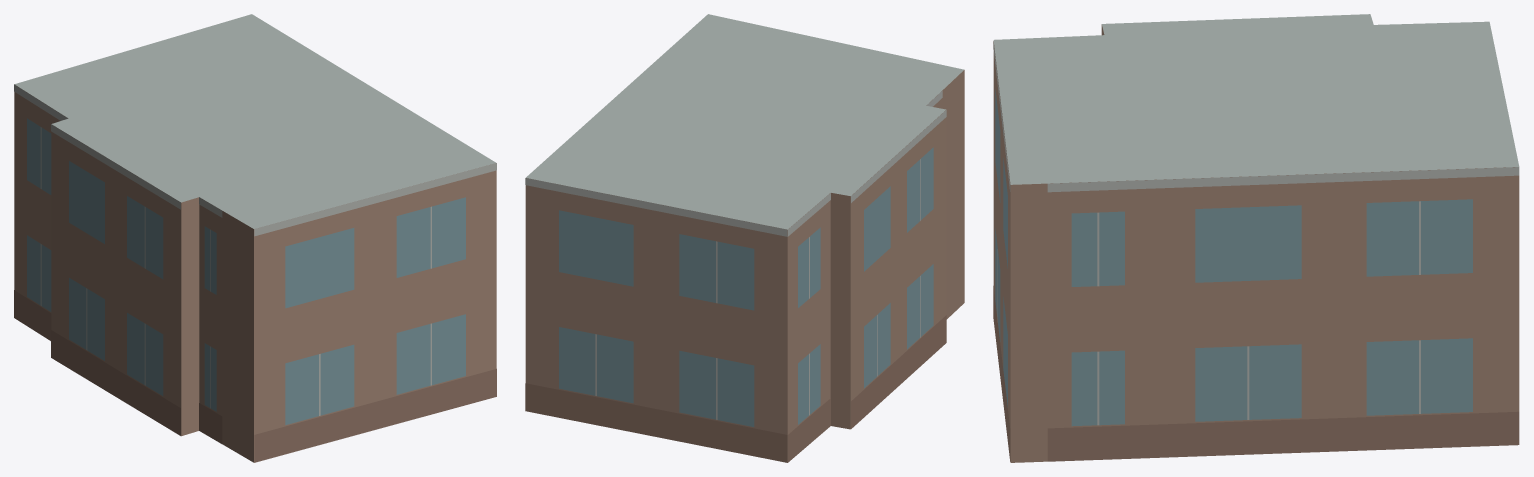
Rendered from survey-upis-32644873.glb.
3 renders of one model, left to right at view 1: azimuth 30°, elevation 25°; view 2: azimuth 150°, elevation 25°; view 3: azimuth 270°, elevation 25°, orthographic. The views are drawn at different scales.
Visible parts, largest first — view 1: survey-upis-32644873.tmp; view 2: survey-upis-32644873.tmp; view 3: survey-upis-32644873.tmp.
Boxes of the visible parts, x1,y1,x2,y2 form: survey-upis-32644873.tmp: [14, 14, 496, 462]; survey-upis-32644873.tmp: [525, 14, 964, 462]; survey-upis-32644873.tmp: [993, 14, 1519, 462].
Size of the model in its own units: 10.21 by 7.75 by 13.29.
